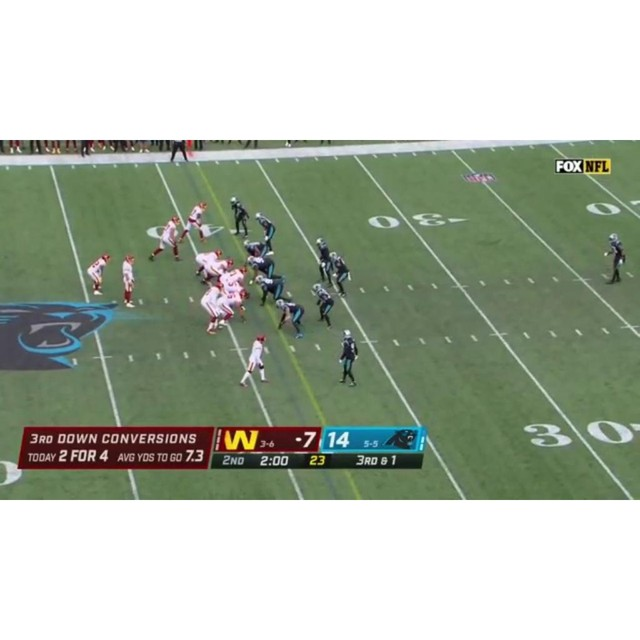american-football-player: (149, 215, 182, 262), (240, 334, 269, 386), (215, 288, 249, 327), (201, 280, 225, 334), (274, 297, 305, 338), (179, 201, 208, 244), (338, 329, 358, 387), (604, 233, 626, 284), (311, 283, 334, 330), (194, 249, 223, 284), (87, 253, 111, 295), (254, 275, 286, 306), (329, 252, 351, 297), (121, 253, 137, 307), (315, 238, 332, 285), (230, 198, 250, 237), (255, 212, 276, 248), (243, 240, 271, 262)
